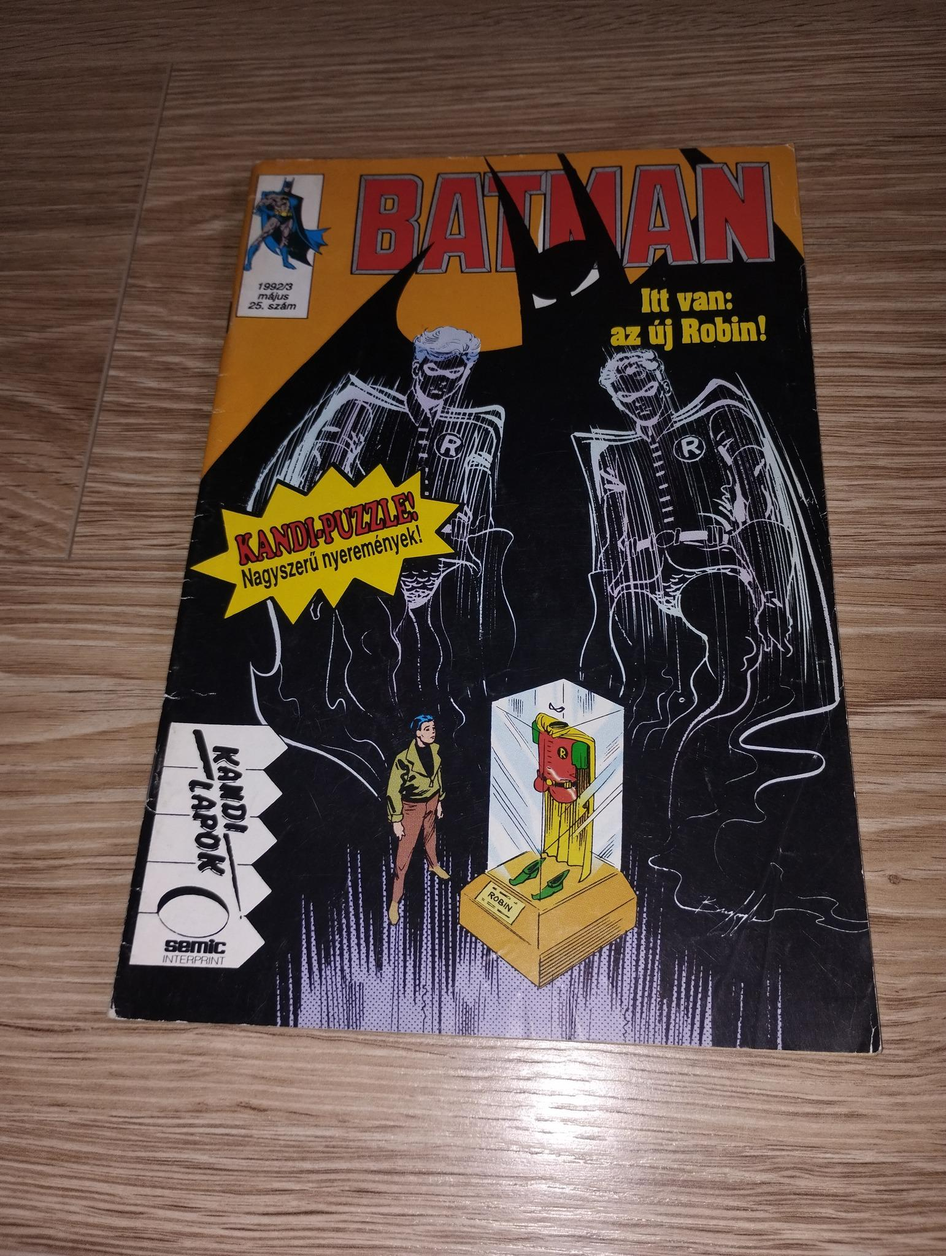comic: (113, 123, 913, 1051)
